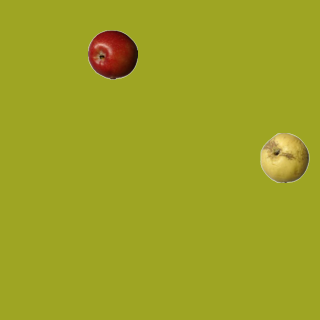Apple Braeburn: (87, 29, 137, 79)
Apple Golden 1: (259, 132, 309, 182)
